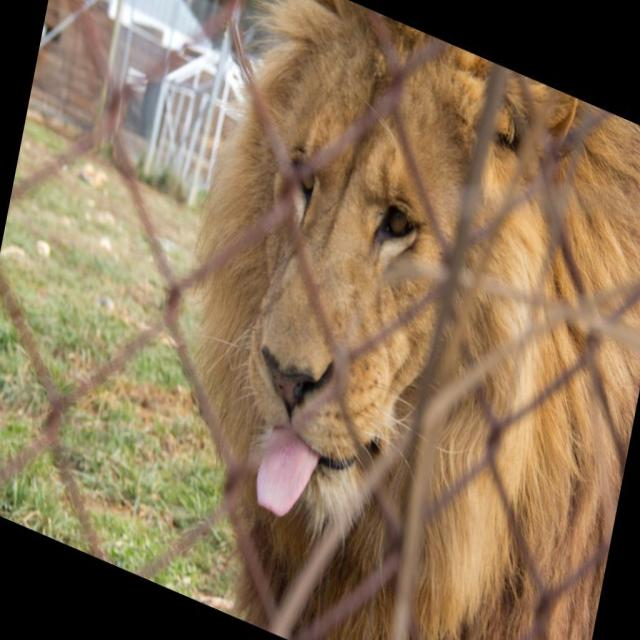Lion: (130, 0, 640, 639)
